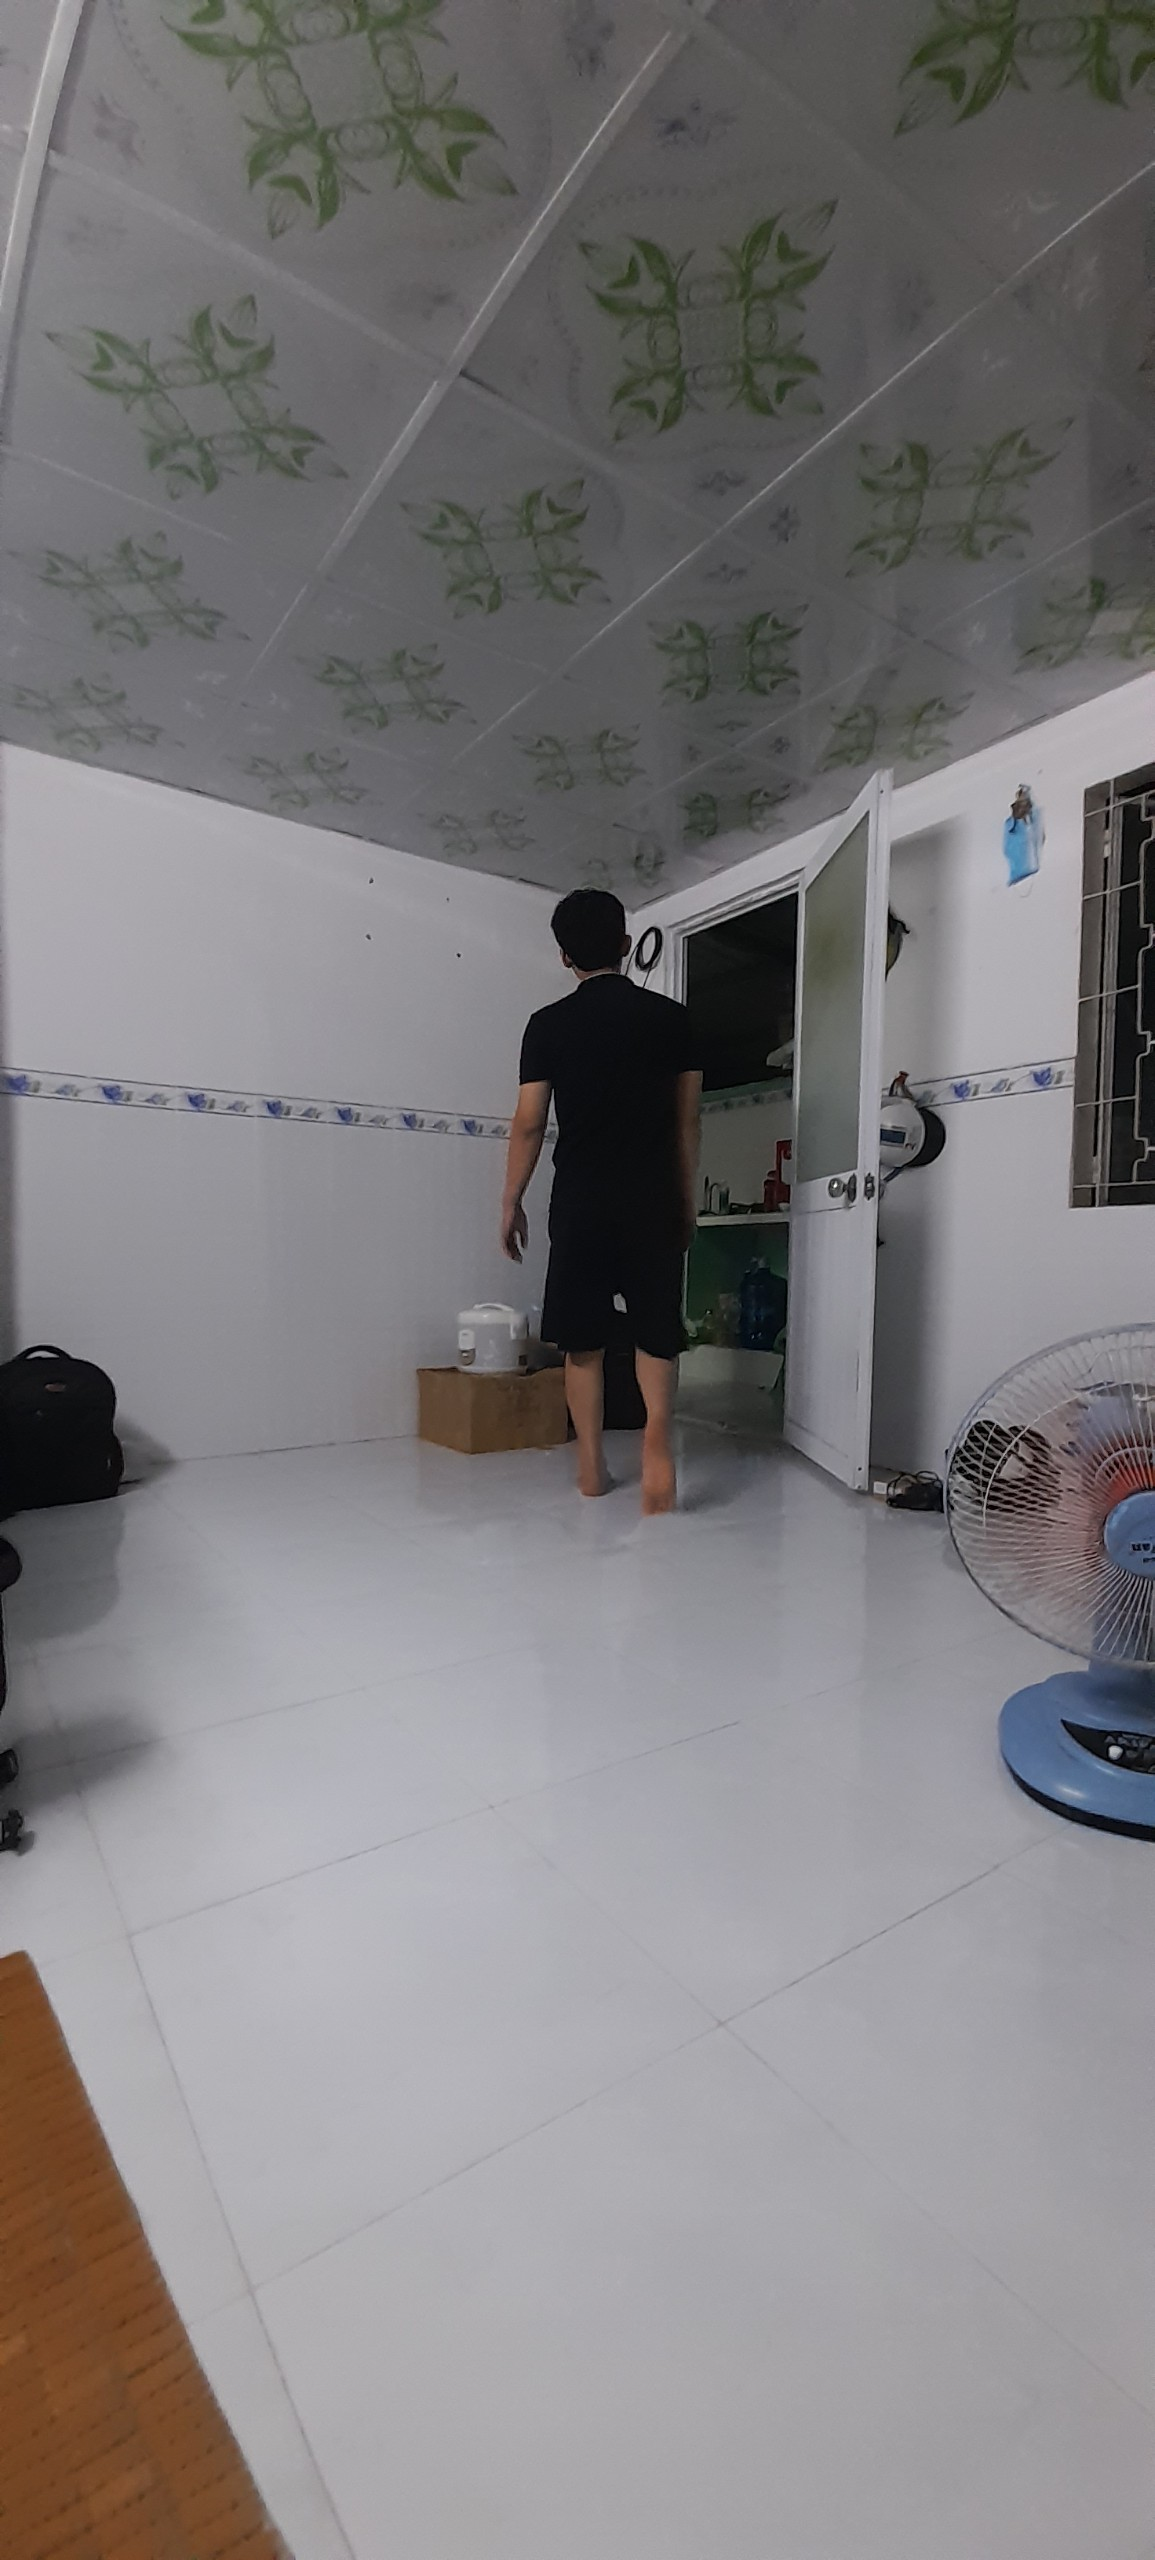person: (500, 890, 708, 1514)
